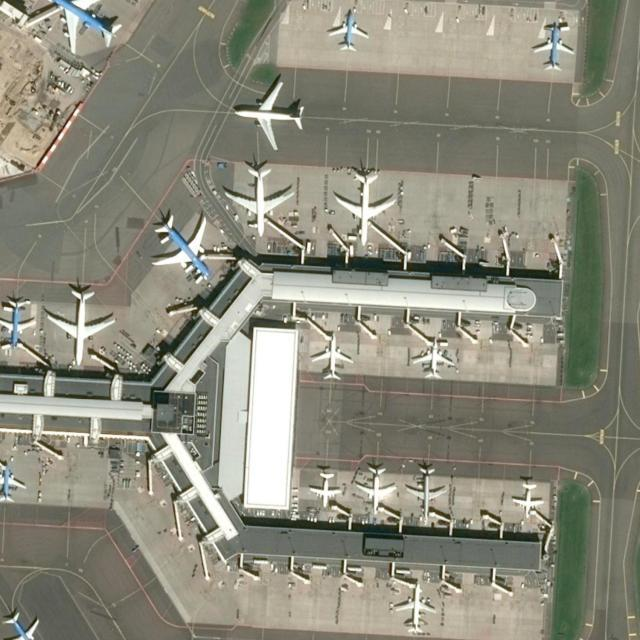Aircraft: (229, 74, 309, 148), (223, 158, 295, 238), (46, 283, 112, 367), (332, 162, 396, 244), (150, 206, 214, 280), (41, 0, 121, 54), (390, 580, 437, 634), (351, 461, 396, 513), (531, 19, 574, 73), (410, 333, 455, 382), (309, 332, 354, 381), (406, 461, 446, 515), (0, 295, 38, 350), (326, 8, 370, 54), (0, 606, 46, 640), (307, 468, 343, 508), (513, 479, 547, 521), (0, 461, 21, 505)
